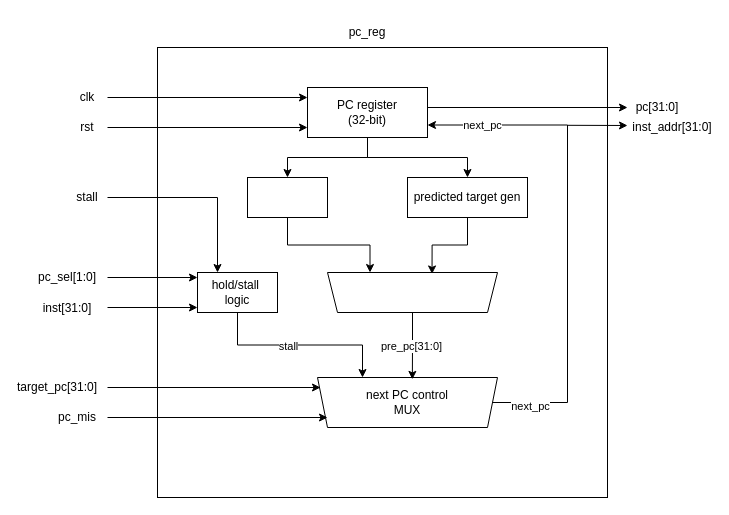
Some shapes in this 729 by 515 pixel diagram are drawn without their labels. Each missing label, with the centre of its shape:
"PC+4 (adder)" goes at pixel 287 197.
"prediction select MUX" goes at pixel 412 292.
